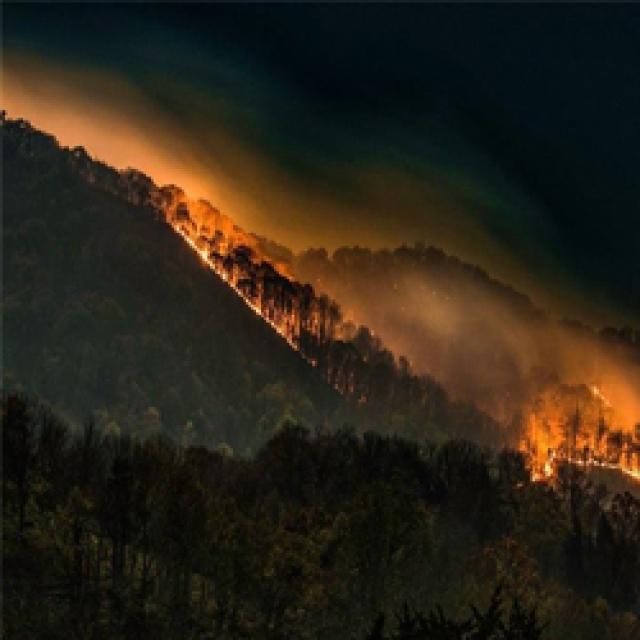Fire: (165, 204, 321, 358)
Smoke: (0, 0, 288, 196), (353, 243, 640, 425), (227, 170, 480, 248)
